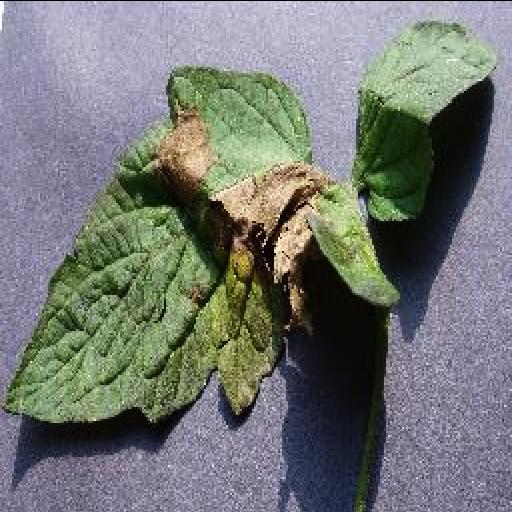disease_tomato: (0, 64, 316, 428)
